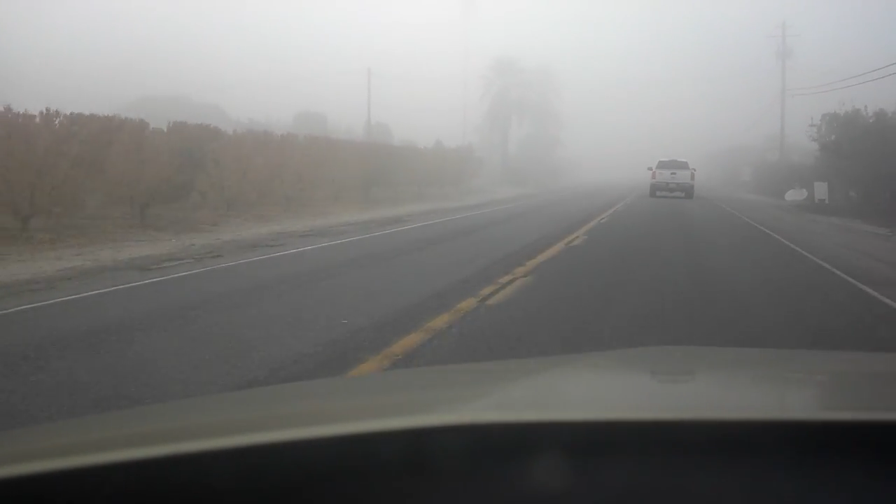car: (646, 157, 698, 199)
